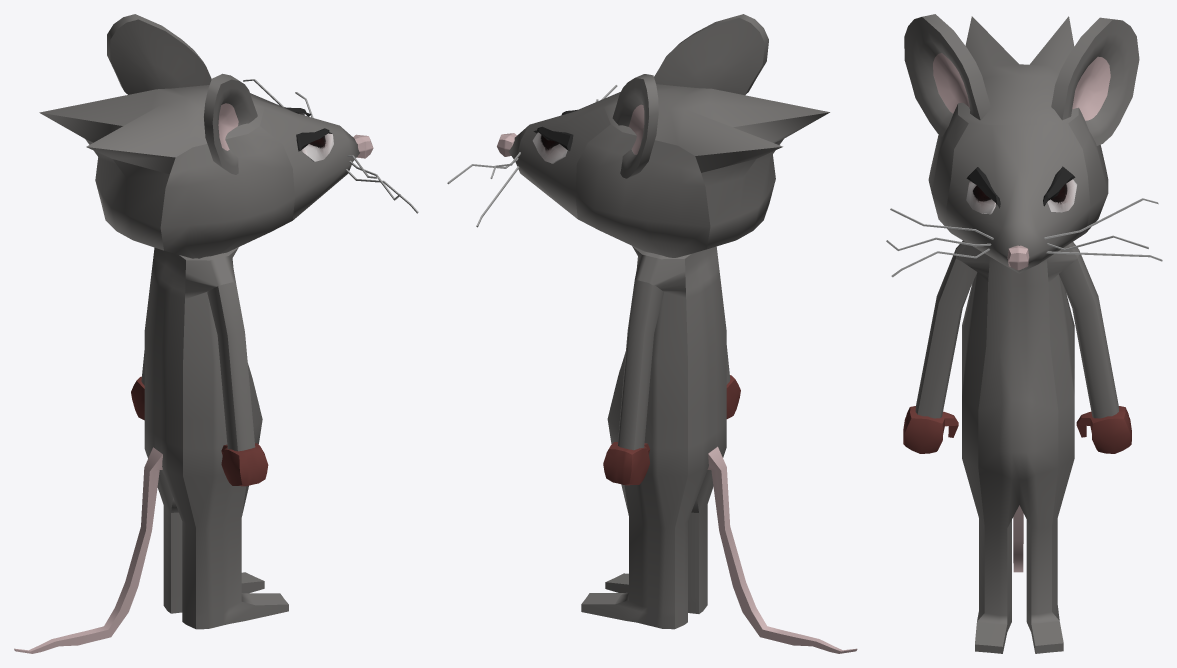
The model's file is flipside rat.fbx.
3 renders of one model, left to right at view 1: azimuth 30°, elevation 25°; view 2: azimuth 150°, elevation 25°; view 3: azimuth 270°, elevation 25°, orthographic. The views are drawn at different scales.
Visible parts, largest first — view 1: pCube32; view 2: pCube32; view 3: pCube32.
Part boxes in pixels (bbox=[...]): pCube32: bbox=[14, 14, 418, 653]; pCube32: bbox=[447, 14, 857, 653]; pCube32: bbox=[886, 14, 1162, 653].
Size of the model in its own units: 8.68 by 13.34 by 5.66.
